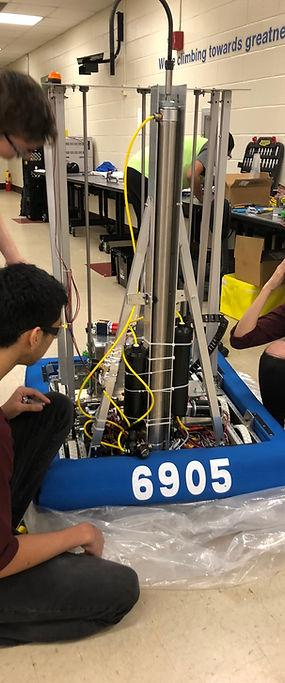robot: (25, 67, 285, 512)
